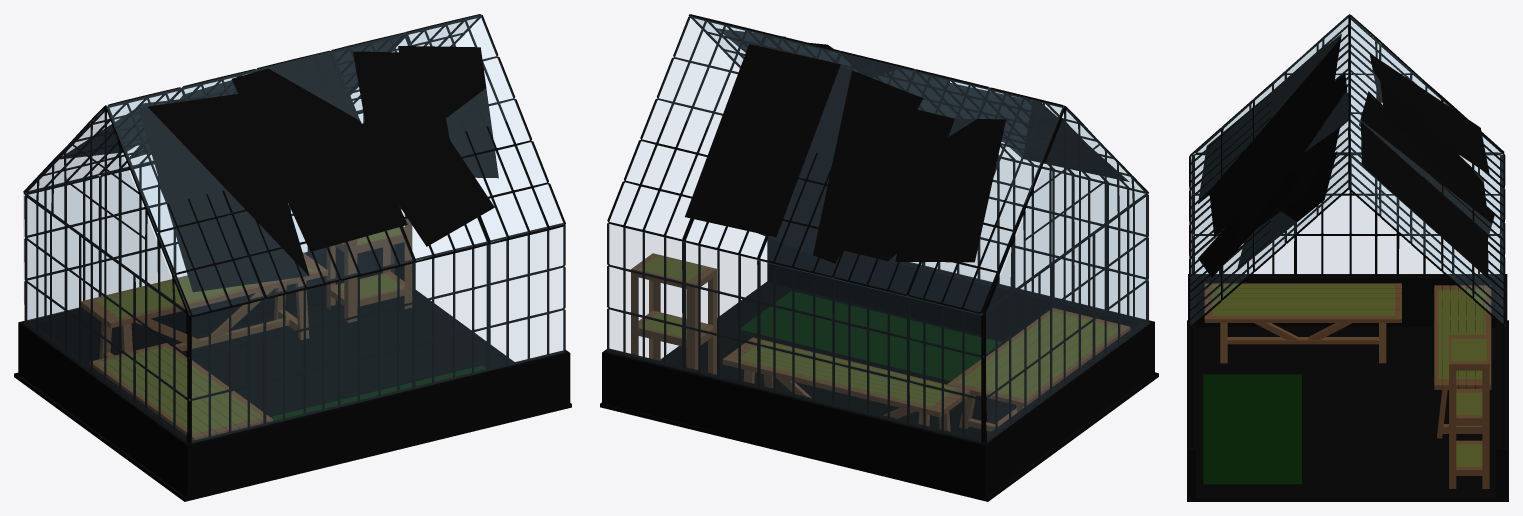
The model's file is GreenhousePlaceholder.fbx.
3 views of the same model, side by side, from view 1: azimuth 30°, elevation 25°; view 2: azimuth 150°, elevation 25°; view 3: azimuth 270°, elevation 25° (orthographic). The views are drawn at different scales.
Parts seen in each view (by area): view 1: Glass.001, RoofPanels.001, Wall.001, Frames.001, Floor.001, Table.002, Table.003, Shelf.001; view 2: Glass.001, RoofPanels.001, Wall.001, Frames.001, Floor.001, Table.003, Table.002, Shelf.001; view 3: Floor.001, RoofPanels.001, Glass.001, Frames.001, Table.003, Wall.001, Shelf.001, Table.002.
Part boxes in pixels (x1=…): Glass.001: x1=23, y1=15, x2=564, y2=442; RoofPanels.001: x1=60, y1=37, x2=498, y2=292; Wall.001: x1=18, y1=242, x2=570, y2=497; Frames.001: x1=23, y1=14, x2=565, y2=443; Floor.001: x1=14, y1=290, x2=571, y2=501; Table.002: x1=81, y1=252, x2=327, y2=359; Table.003: x1=89, y1=343, x2=272, y2=440; Shelf.001: x1=326, y1=214, x2=412, y2=322; Glass.001: x1=607, y1=16, x2=1148, y2=442; RoofPanels.001: x1=685, y1=28, x2=1129, y2=264; Wall.001: x1=602, y1=237, x2=1154, y2=497; Frames.001: x1=607, y1=14, x2=1148, y2=442; Floor.001: x1=600, y1=281, x2=1158, y2=501; Table.003: x1=947, y1=308, x2=1130, y2=431; Table.002: x1=722, y1=337, x2=970, y2=431; Shelf.001: x1=631, y1=253, x2=716, y2=374; Floor.001: x1=1187, y1=320, x2=1508, y2=501; RoofPanels.001: x1=1198, y1=33, x2=1494, y2=278; Glass.001: x1=1191, y1=15, x2=1502, y2=324; Frames.001: x1=1189, y1=14, x2=1505, y2=447; Table.003: x1=1204, y1=283, x2=1401, y2=363; Wall.001: x1=1188, y1=274, x2=1507, y2=497; Shelf.001: x1=1449, y1=335, x2=1489, y2=488; Table.002: x1=1434, y1=285, x2=1491, y2=438.
Size of the model in its own units: 7456 by 6111 by 5690.
